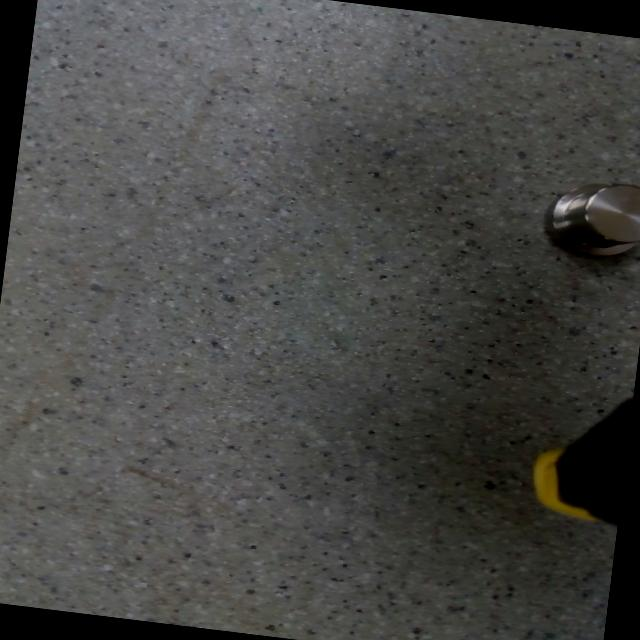sensor: (537, 172, 640, 265)
